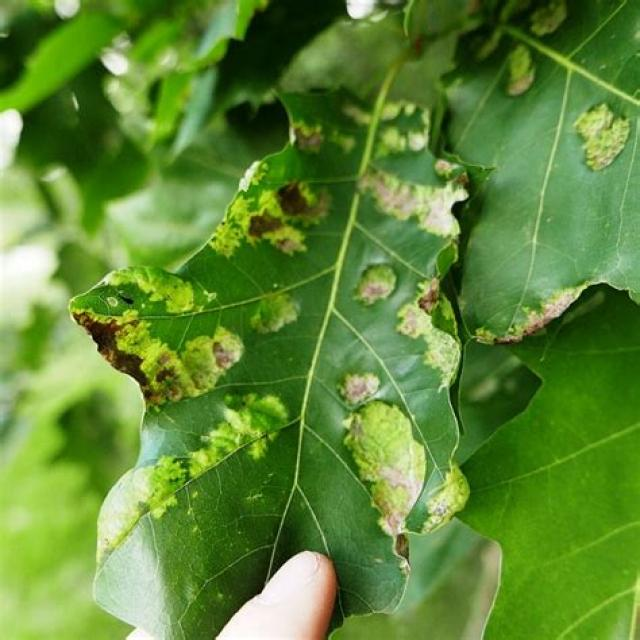blight: (67, 276, 230, 427), (494, 248, 588, 373)
